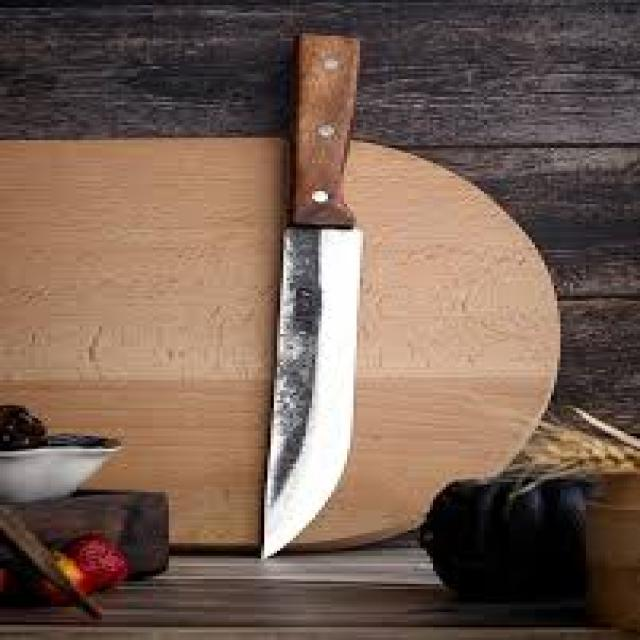Knife: (261, 33, 360, 558)
